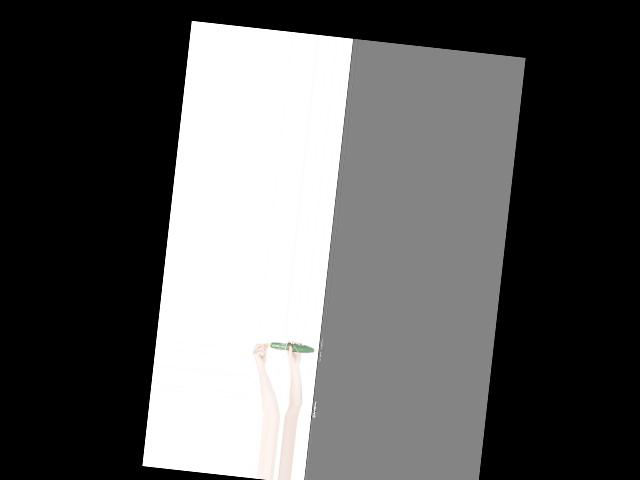cucumber: (270, 341, 316, 353)
